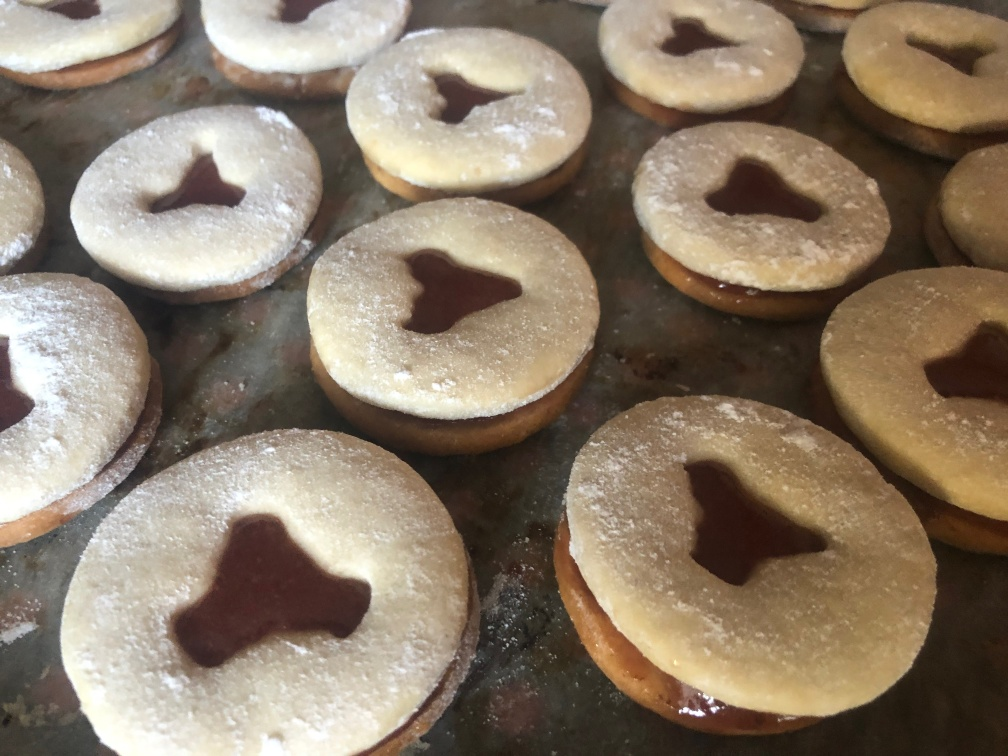christmas shortbread with jam: (67, 425, 486, 753), (563, 395, 940, 738), (303, 194, 603, 454), (823, 259, 1008, 539), (69, 103, 320, 303), (628, 121, 886, 309), (1, 272, 163, 557), (348, 21, 588, 204), (597, 1, 807, 123), (844, 3, 1007, 153), (199, 1, 406, 95), (1, 1, 184, 92)
